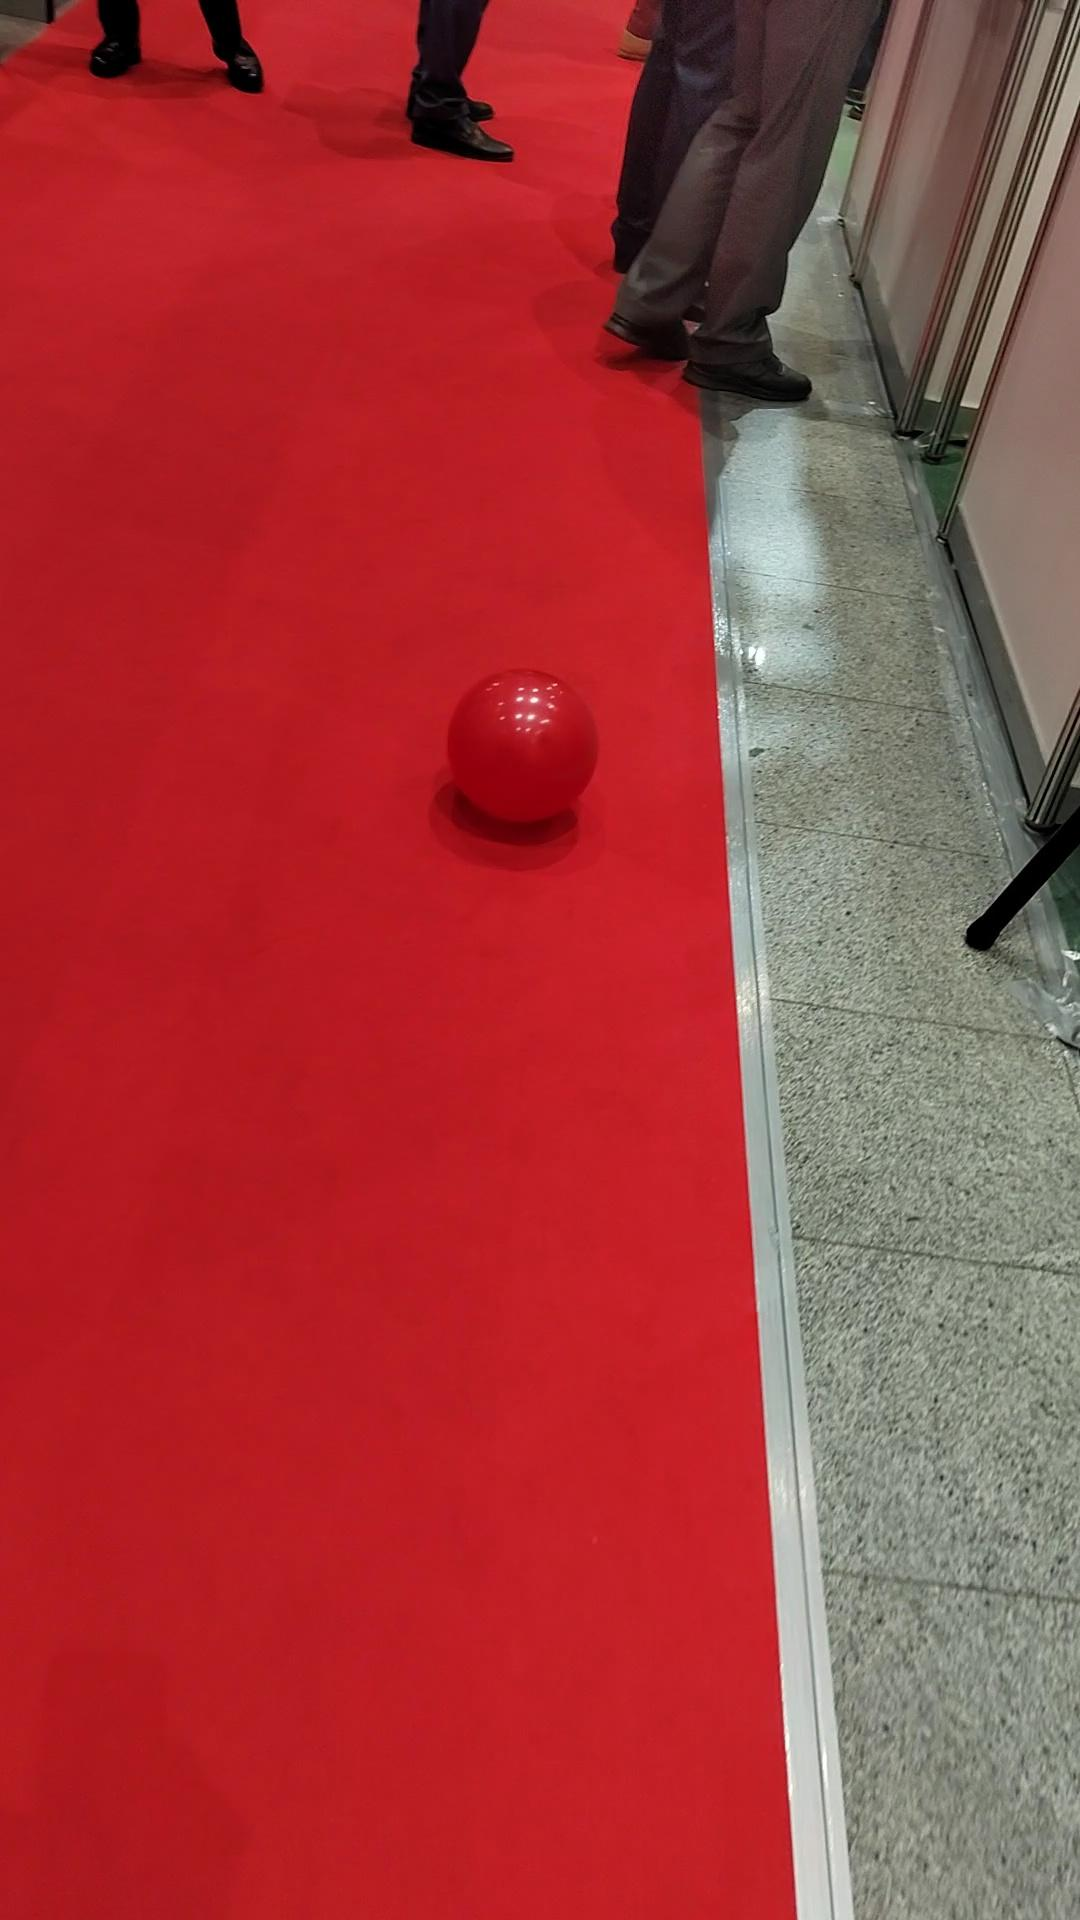red: (446, 670, 600, 825)
